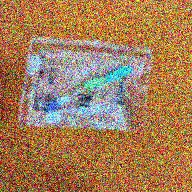러키펜정: (45, 111, 63, 125)
씨엠지세파클러캡슐: (47, 95, 72, 113)
에르도캡슐: (103, 66, 133, 84)
휴티렌정: (82, 78, 106, 91)
